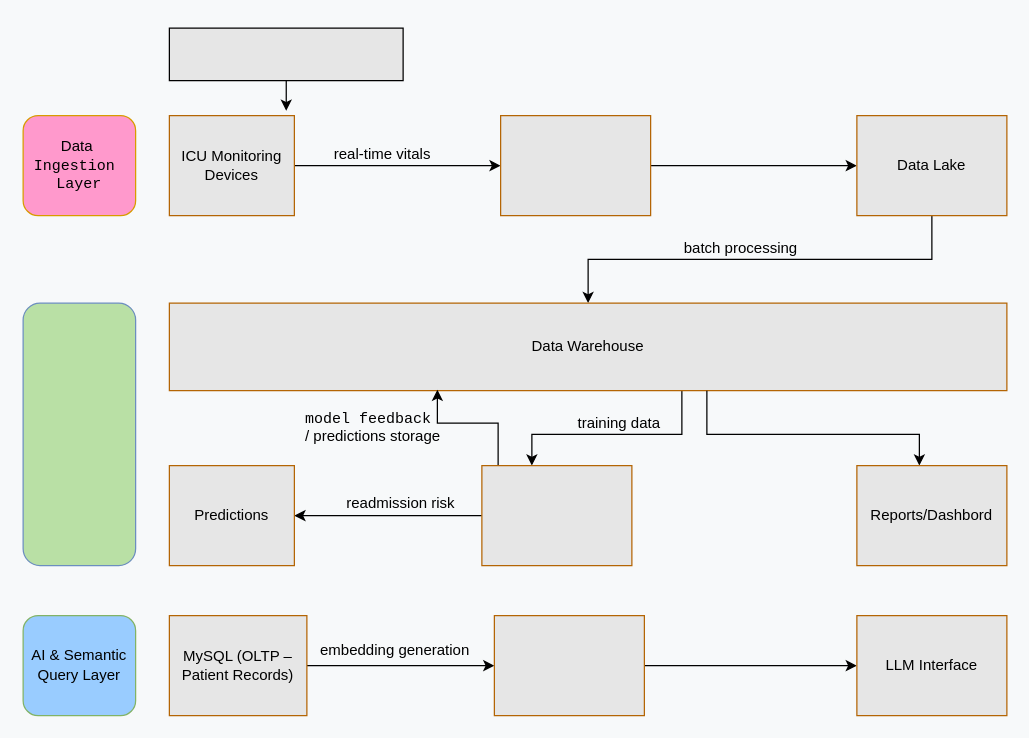
This 1029x738 diagram has some shape labels left out. The shapes that lost their labels are listed below. From the top down, each one's centre as x and y in pixels, then its label:
the point at 285,54: Data Sources:ICU Devices,Hospital Systems,Patient Records
the point at 575,165: Streaming Layer (Kafka / Event Streaming)
the point at 79,434: Data Processing & Analytics Layer
the point at 556,515: ML Model
the point at 568,665: Vector DB
